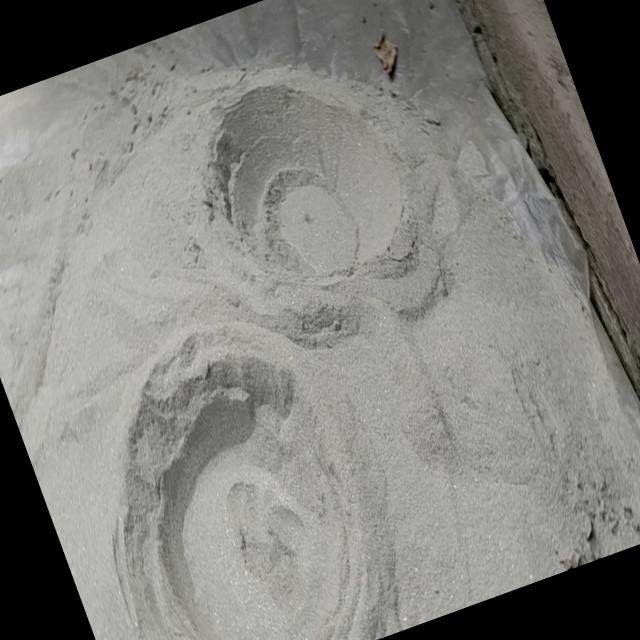C20: (124, 370, 361, 640), (210, 96, 404, 280)
